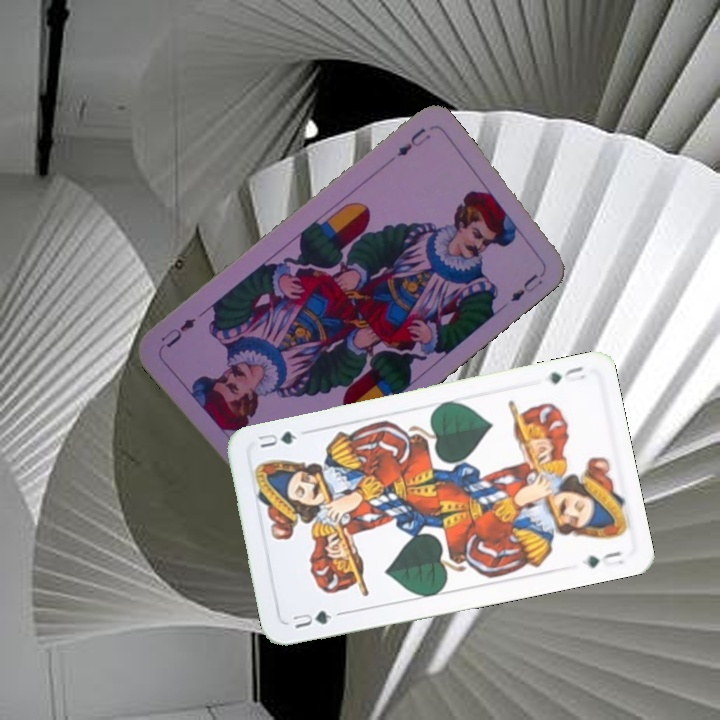EU: (393, 123, 433, 160)
GU: (288, 606, 344, 632), (544, 362, 589, 387)
